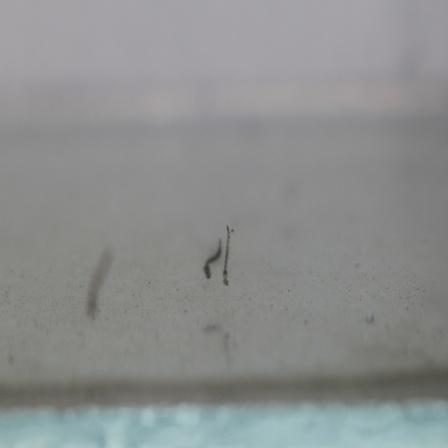Jentik-Nyamuk: (201, 221, 238, 293)
